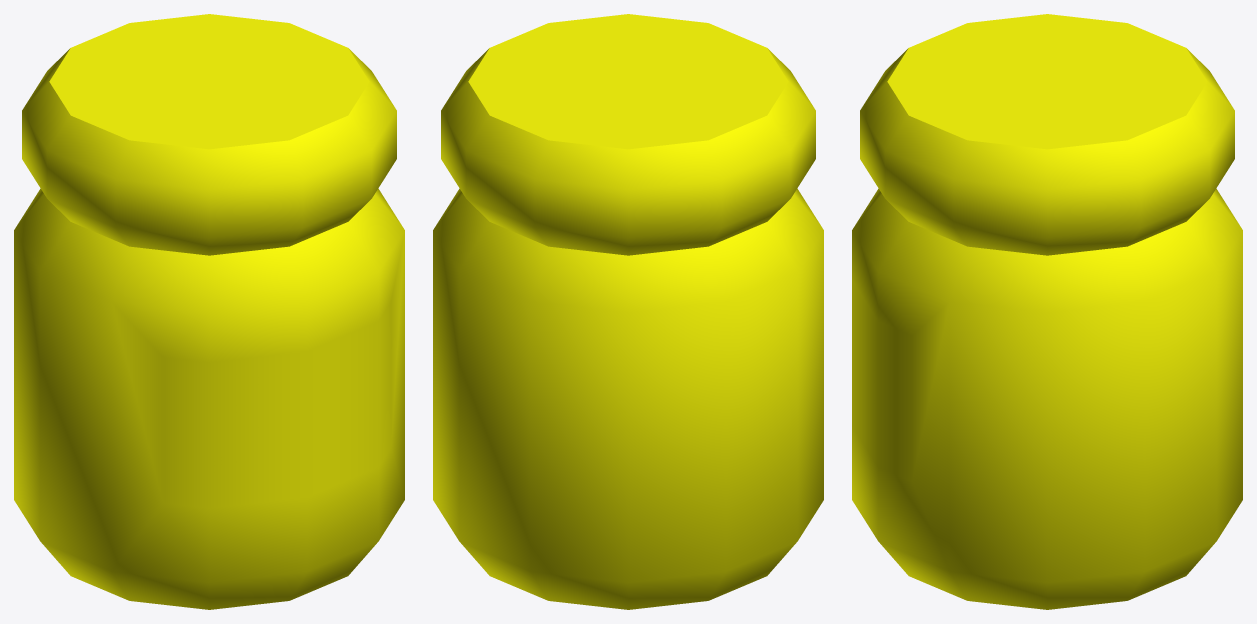
Rendered from kaykit-jar-b-medium.glb.
The picture shows the model from 3 angles, left to right: view 1: azimuth 30°, elevation 25°; view 2: azimuth 150°, elevation 25°; view 3: azimuth 270°, elevation 25°; orthographic projection.
Parts seen in each view (by area): view 1: jar_B_medium; view 2: jar_B_medium; view 3: jar_B_medium.
Part boxes in pixels (x1,y1,x2,y2): jar_B_medium: [14, 14, 404, 609]; jar_B_medium: [433, 14, 823, 609]; jar_B_medium: [852, 14, 1242, 609].
Size of the model in its own units: 0.5 by 0.65 by 0.5.
